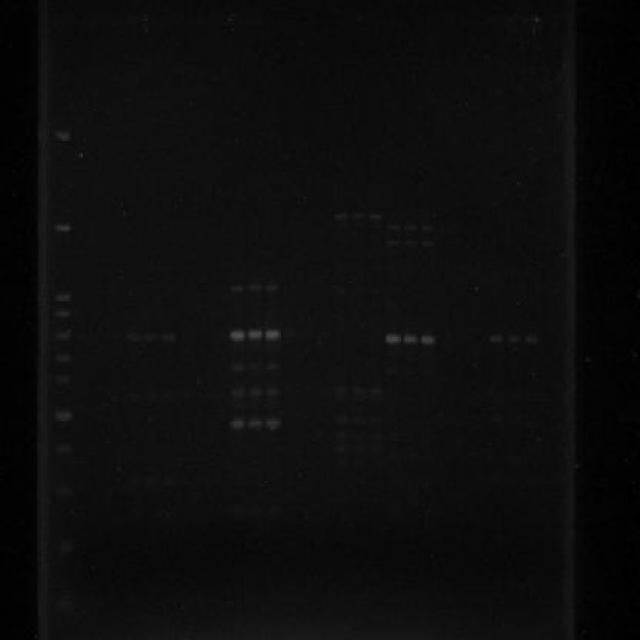B: (418, 332, 437, 346), (386, 333, 402, 347), (266, 416, 282, 430), (228, 328, 246, 340), (402, 334, 420, 346), (246, 329, 262, 342), (264, 329, 280, 342), (230, 361, 246, 374), (246, 362, 262, 375), (247, 388, 264, 400), (229, 418, 246, 430), (248, 416, 263, 429), (160, 330, 176, 342), (245, 282, 262, 293), (264, 283, 281, 294), (487, 334, 505, 344), (264, 388, 282, 398), (506, 333, 522, 344), (125, 332, 142, 342), (142, 332, 160, 341), (420, 222, 436, 232), (402, 238, 418, 248), (420, 238, 436, 248), (521, 334, 537, 344), (230, 283, 244, 294), (368, 212, 383, 222), (231, 388, 246, 398), (384, 238, 400, 247), (265, 361, 278, 372), (386, 222, 400, 232), (401, 223, 417, 231), (351, 212, 366, 220), (334, 212, 348, 220)
M: (44, 108, 84, 630)
P: (52, 596, 80, 618), (48, 478, 77, 497), (52, 324, 76, 344), (50, 407, 76, 425), (50, 218, 74, 237), (50, 440, 76, 457), (50, 537, 76, 554), (50, 127, 75, 144), (52, 349, 74, 366), (52, 370, 74, 387), (51, 290, 74, 306), (51, 306, 74, 322)
